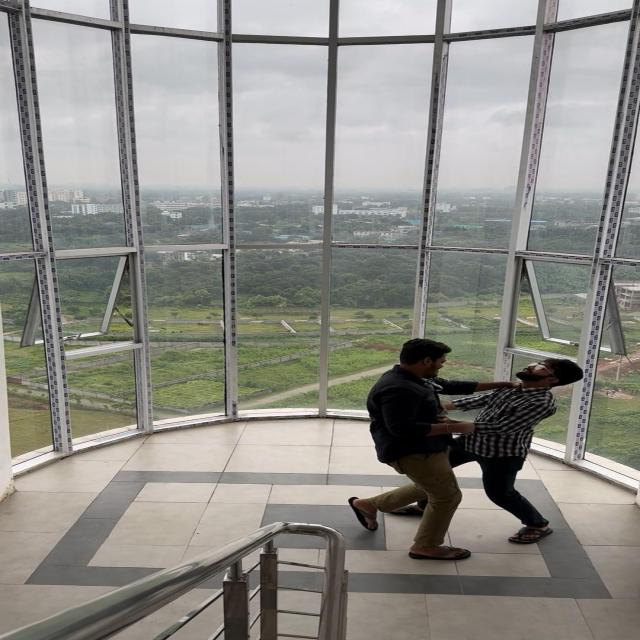fight: (312, 313, 610, 590)
